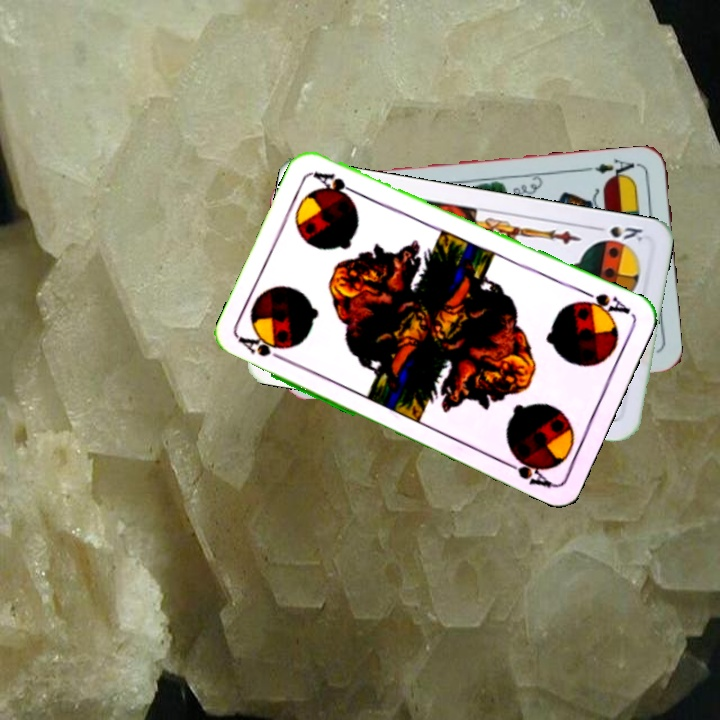EA: (591, 155, 642, 183)
SA: (573, 285, 633, 320), (236, 333, 292, 366)
SK: (589, 222, 648, 246)
